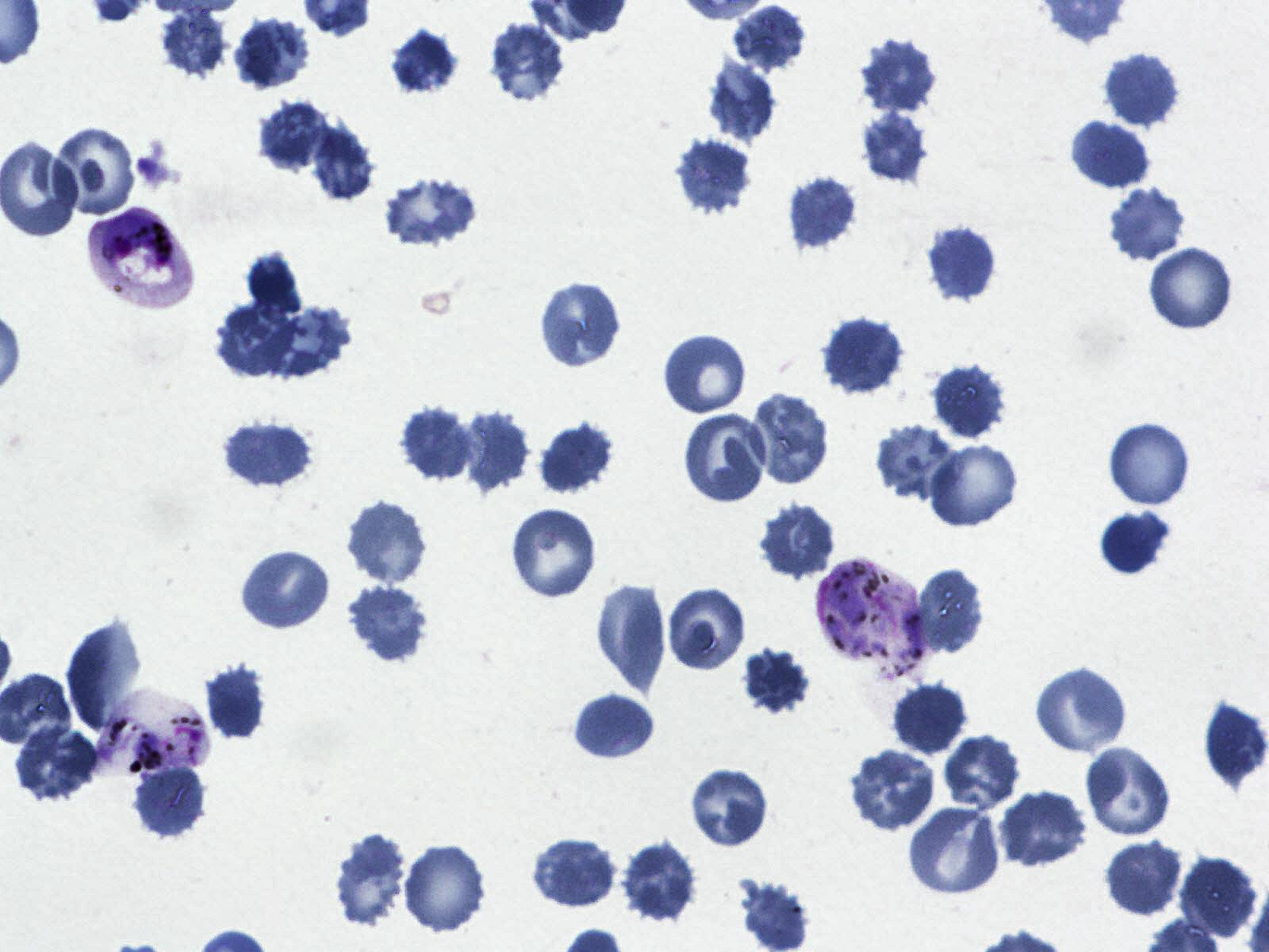Infected: (814, 559, 928, 679), (85, 205, 193, 310), (89, 688, 208, 783)
Uninfected: (909, 802, 1004, 898), (1034, 666, 1130, 758), (1083, 743, 1174, 839), (66, 625, 144, 735), (594, 579, 668, 692), (926, 440, 1021, 528), (510, 507, 598, 601), (750, 390, 830, 489), (48, 119, 132, 213), (404, 843, 488, 935), (1148, 245, 1236, 332), (538, 280, 623, 370), (661, 333, 750, 417), (996, 782, 1083, 867), (687, 416, 768, 507), (850, 748, 939, 830), (345, 499, 427, 587), (684, 763, 765, 851), (14, 721, 102, 802), (242, 551, 332, 630), (1110, 422, 1192, 508), (259, 301, 351, 376), (487, 18, 567, 104), (668, 585, 746, 673), (706, 56, 782, 146), (1179, 854, 1255, 943), (941, 731, 1016, 820), (347, 582, 429, 663), (675, 133, 755, 216), (224, 416, 316, 487), (382, 178, 480, 244), (874, 424, 962, 497), (822, 316, 902, 396), (862, 33, 941, 114), (1110, 182, 1189, 263), (335, 832, 403, 925), (913, 567, 983, 657), (215, 304, 301, 377), (132, 759, 209, 840), (1105, 839, 1184, 917), (622, 841, 698, 922), (535, 837, 619, 909), (892, 681, 970, 758), (930, 363, 1007, 441), (761, 501, 837, 580), (457, 410, 529, 493), (1106, 52, 1182, 130), (1070, 120, 1150, 193), (401, 408, 477, 484), (233, 17, 310, 92), (574, 693, 655, 764), (200, 662, 271, 743), (929, 224, 999, 305), (1206, 701, 1267, 793), (259, 98, 334, 171), (535, 424, 612, 495), (727, 7, 807, 74), (742, 644, 816, 716), (788, 172, 857, 249), (312, 121, 375, 202), (381, 29, 455, 97), (740, 878, 808, 952), (862, 107, 925, 184), (162, 6, 227, 80), (1098, 506, 1167, 574)
